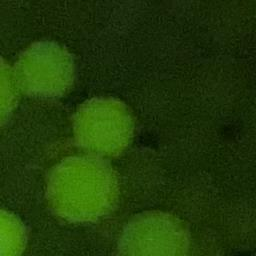negative: (12, 96, 74, 170), (117, 147, 177, 208)
positive: (46, 152, 124, 225), (72, 94, 138, 156), (14, 36, 77, 98), (116, 210, 196, 255), (0, 49, 23, 126), (0, 206, 31, 256)
